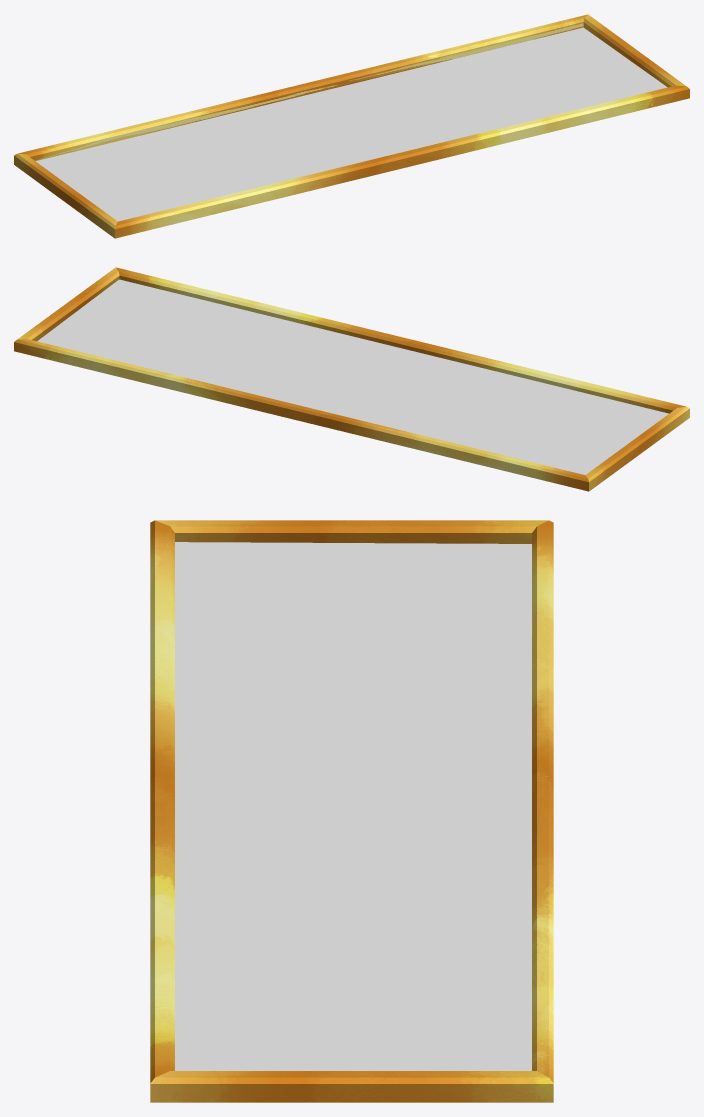
File: Billboard_A.fbx
3 renders of one model, top to bottom at view 1: azimuth 30°, elevation 25°; view 2: azimuth 150°, elevation 25°; view 3: azimuth 270°, elevation 25°, orthographic. The views are drawn at different scales.
Parts seen in each view (by area): view 1: Billboard_A; view 2: Billboard_A; view 3: Billboard_A.
Boxes of the visible parts, bbox=[...] form: Billboard_A: bbox=[14, 14, 689, 238]; Billboard_A: bbox=[14, 267, 689, 491]; Billboard_A: bbox=[150, 520, 553, 1102].
Size of the model in its own units: 3411 by 64.9 by 1037.
